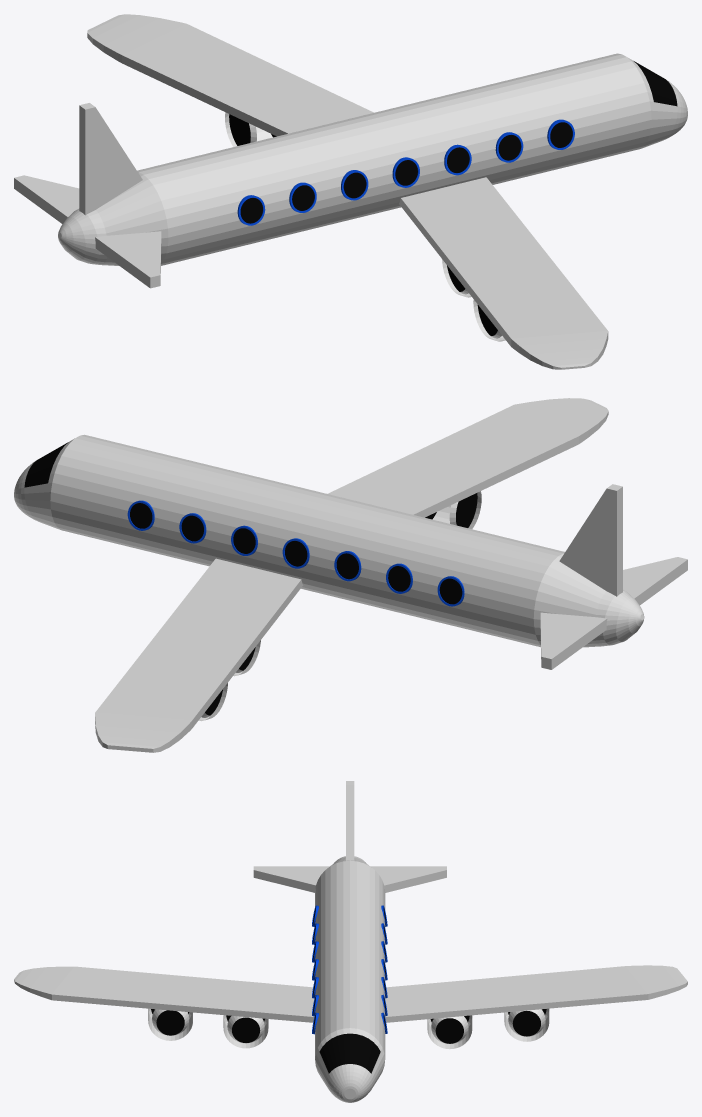
The model's file is aeroplane.gltf.
3 renders of one model, top to bottom at view 1: azimuth 30°, elevation 25°; view 2: azimuth 150°, elevation 25°; view 3: azimuth 270°, elevation 25°, orthographic. The views are drawn at different scales.
Parts seen in each view (by area): view 1: aeroplane; view 2: aeroplane; view 3: aeroplane.
Part boxes in pixels (x1,y1,x2,y2): aeroplane: (14,14,687,369); aeroplane: (14,398,687,752); aeroplane: (14,781,687,1102).
Bounding box in the file's own units: 14.57 × 4.67 × 19.23.
